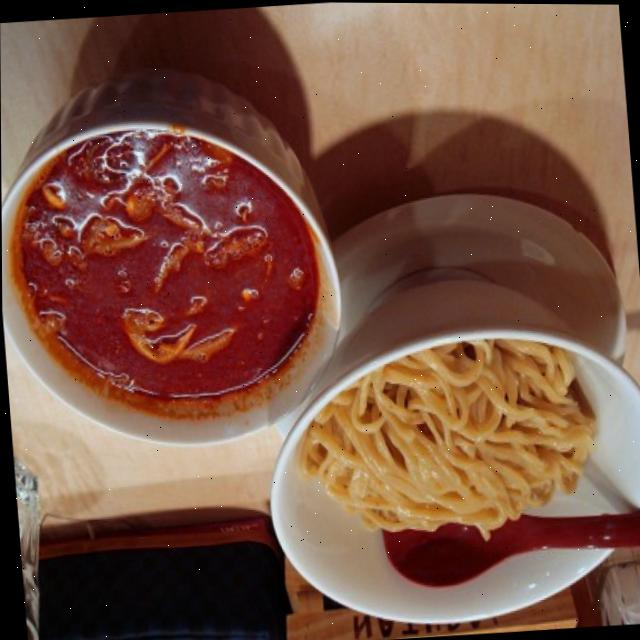面条主食: (16, 81, 623, 600)
